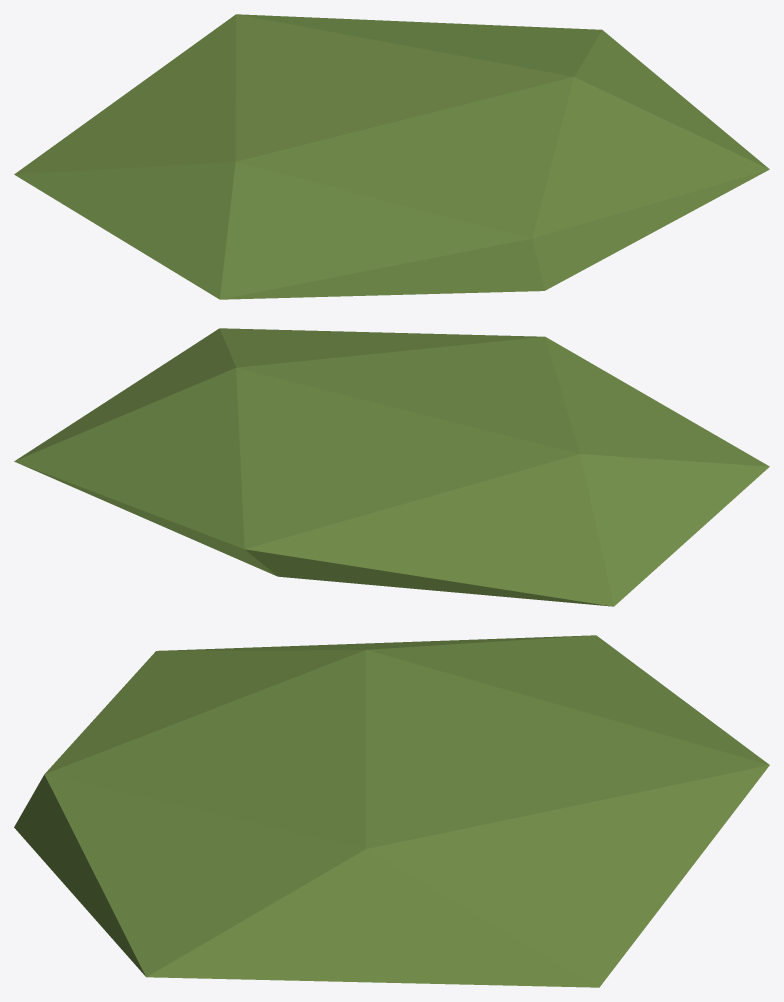
File: moss-cap-1.glb
3 renders of one model, top to bottom at view 1: azimuth 30°, elevation 25°; view 2: azimuth 150°, elevation 25°; view 3: azimuth 270°, elevation 25°, orthographic. The views are drawn at different scales.
Visible parts, largest first — view 1: moss_cap_1; view 2: moss_cap_1; view 3: moss_cap_1.
Part boxes in pixels (x1=…): moss_cap_1: x1=14, y1=14, x2=769, y2=299; moss_cap_1: x1=14, y1=328, x2=769, y2=606; moss_cap_1: x1=14, y1=635, x2=769, y2=987.
Size of the model in its own units: 0.8862 by 0.0958 by 0.8034.
